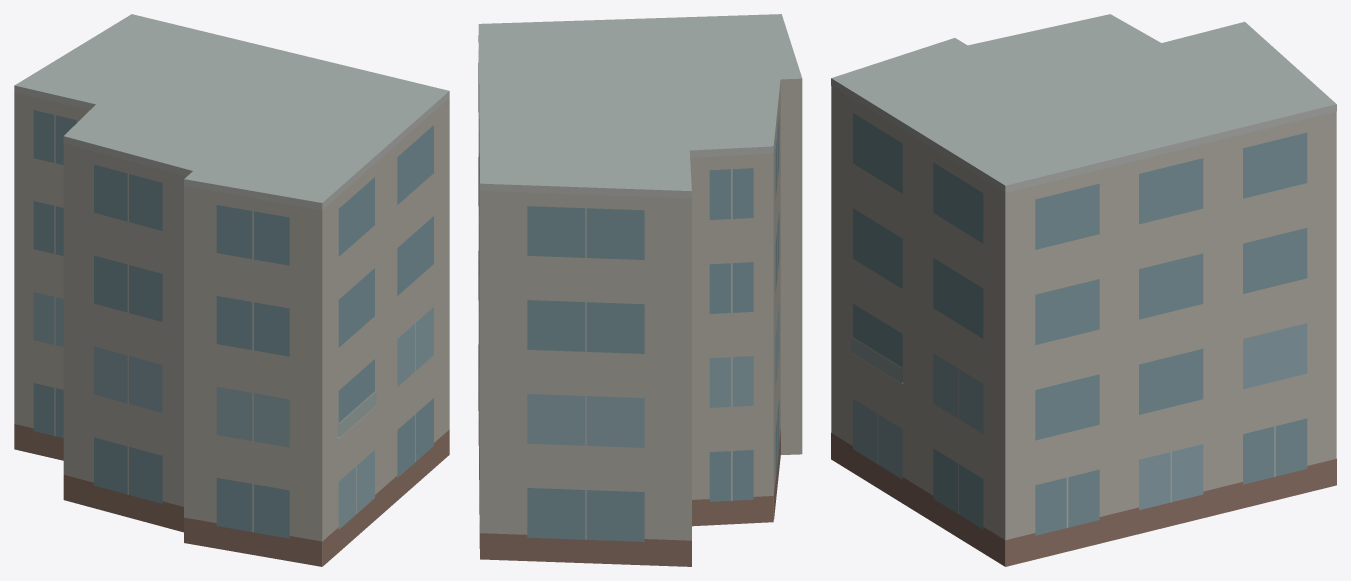
Rendered from survey-upis-32962638.glb.
3 views of the same model, side by side, from view 1: azimuth 30°, elevation 25°; view 2: azimuth 150°, elevation 25°; view 3: azimuth 270°, elevation 25° (orthographic). The views are drawn at different scales.
Visible parts, largest first — view 1: survey-upis-32962638.tmp; view 2: survey-upis-32962638.tmp; view 3: survey-upis-32962638.tmp.
Part boxes in pixels (left/top/right/bottom): survey-upis-32962638.tmp: left=14, top=14, right=449, bottom=566; survey-upis-32962638.tmp: left=478, top=14, right=802, bottom=566; survey-upis-32962638.tmp: left=831, top=14, right=1336, bottom=566.
Bounding box in the file's own units: 12.28 × 12.7 × 15.28.
